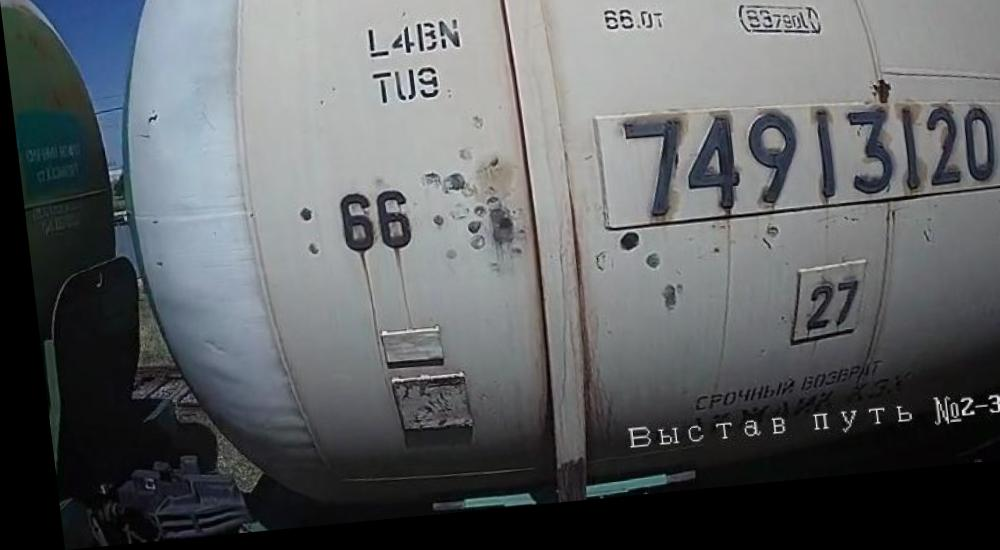Wagon-number: (608, 101, 1000, 240)
